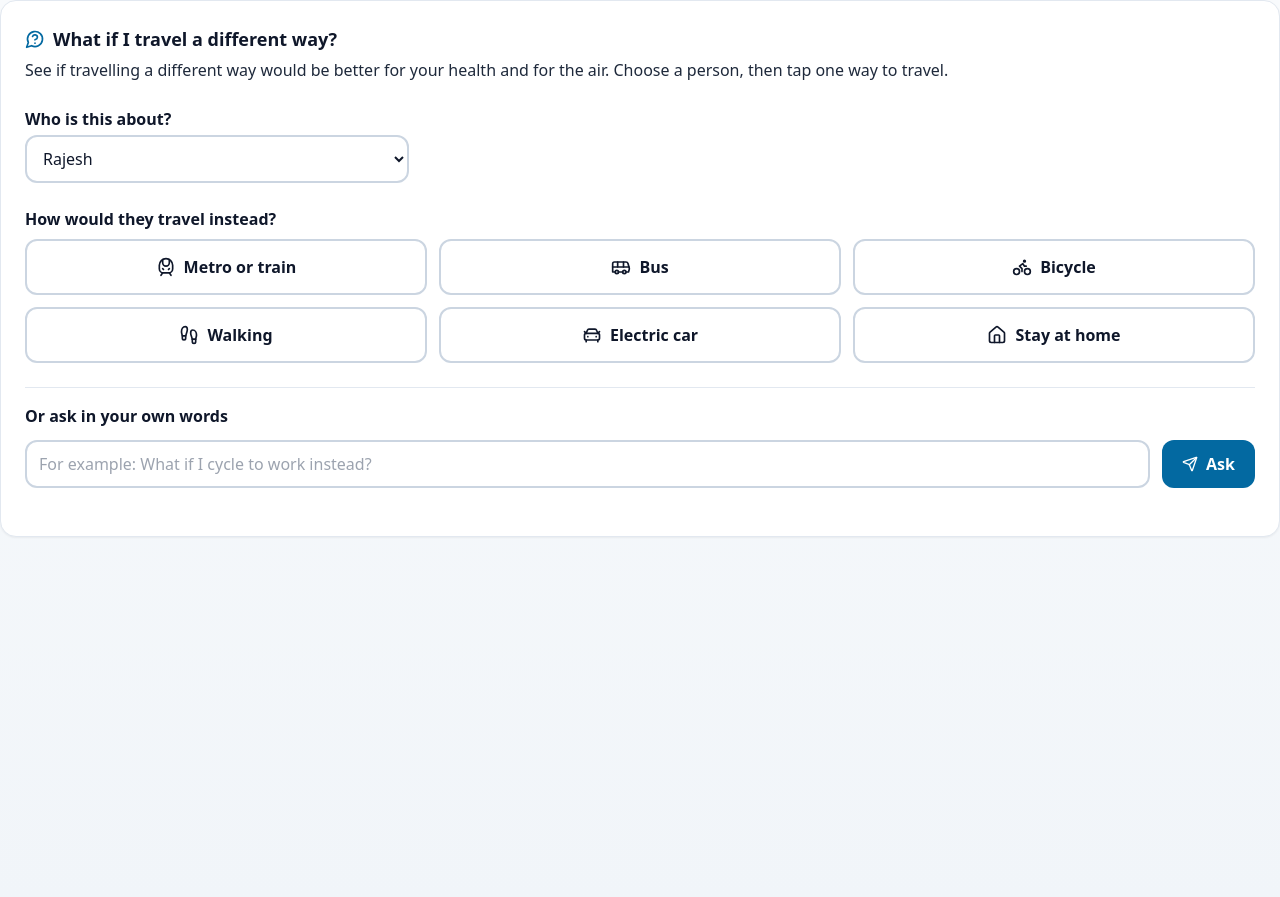
Scenario: WhatIfPanel › shows a mixed verdict in words
Click the button "Metro or train" at (226, 267), box [25,239,427,295]
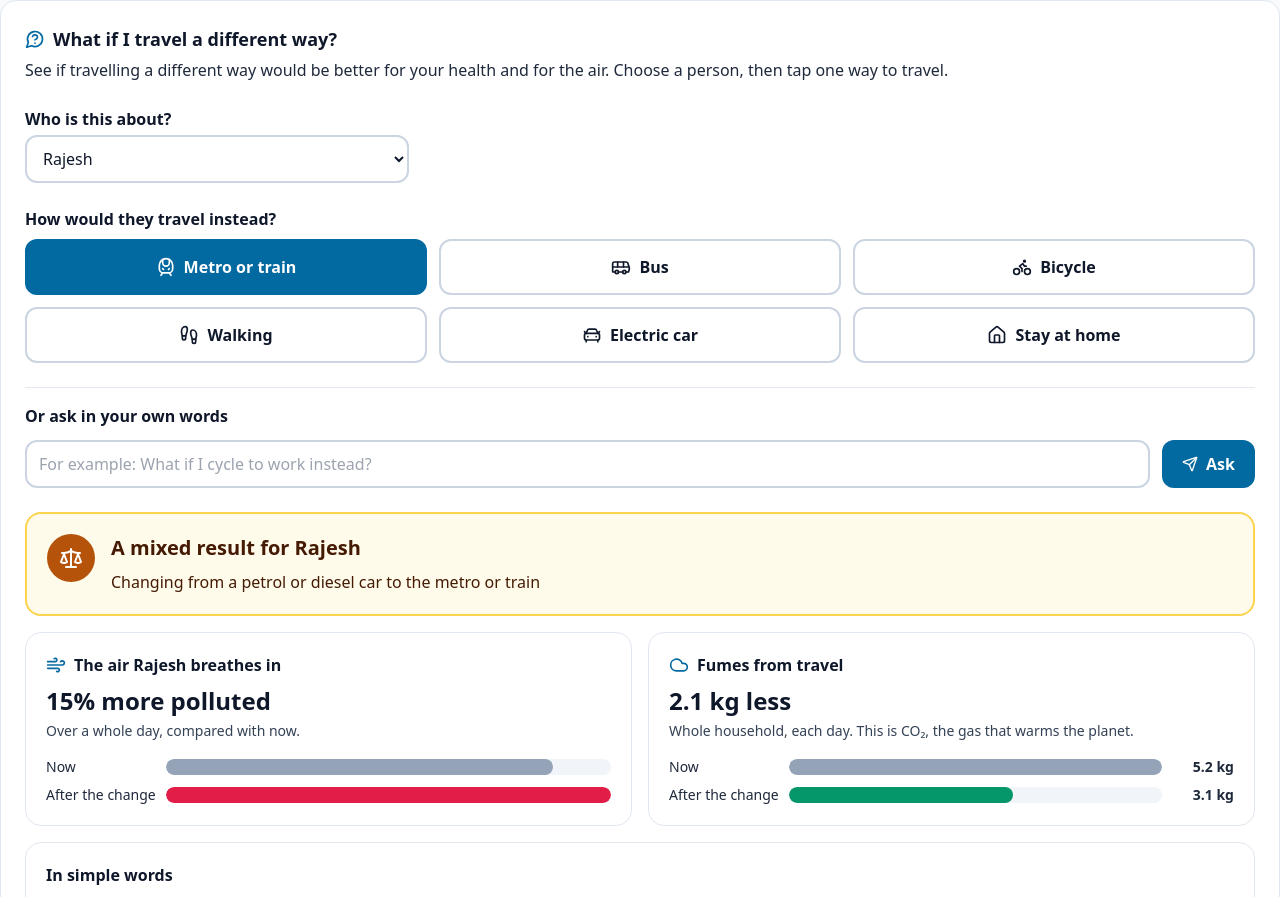
Expected: the heading "A mixed result for Rajesh" is shown, [111,534,361,561]
